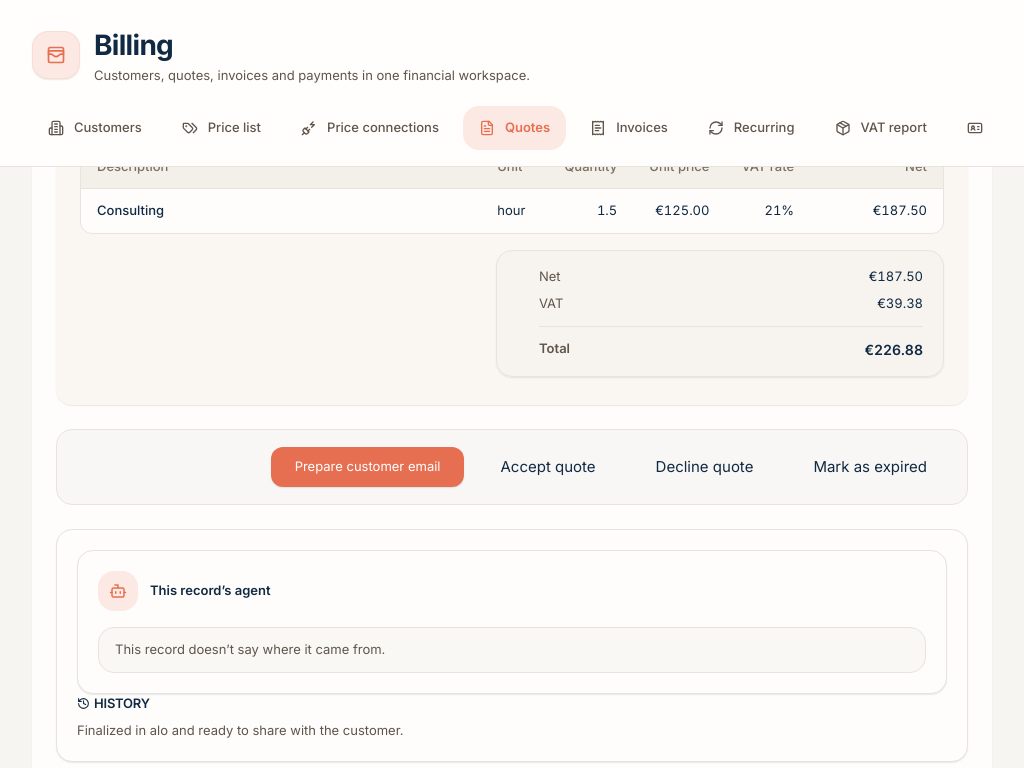
the offer's transitions › declining closes the offer for good, in the server's own answer
(page scrolled)
expect the text "Finalized in alo and ready to share with the customer." is shown: met, box [77,722,404,738]
Click the button "Decline quote": [704, 467] box [632,446,777,488]
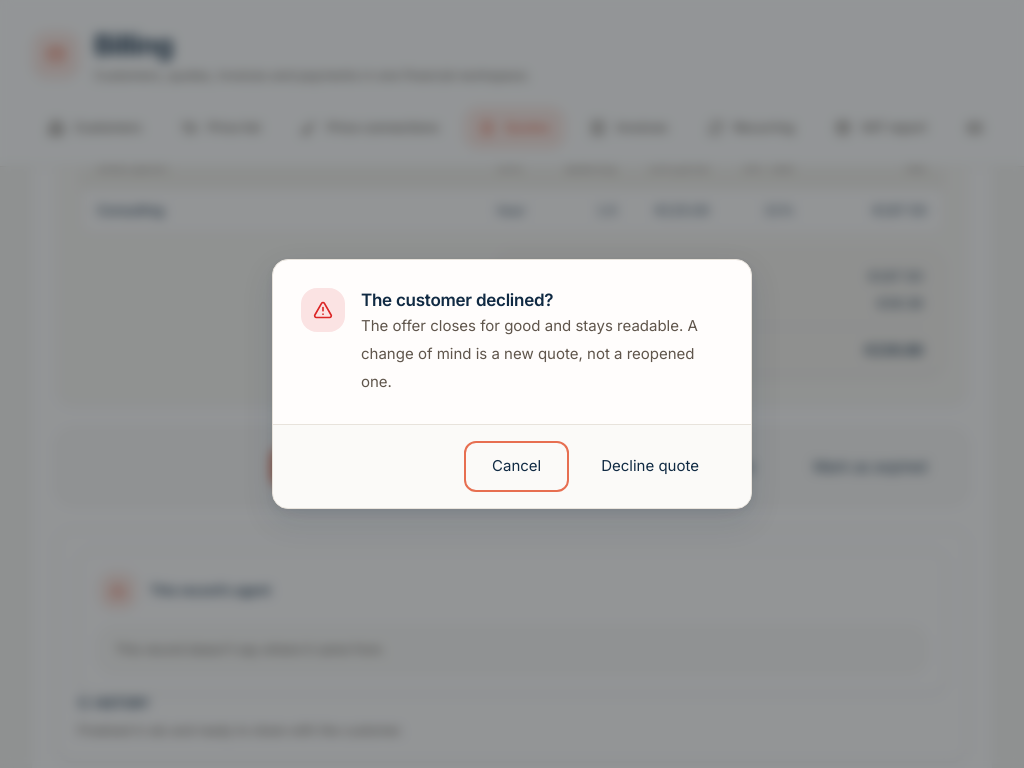
expect the text "The offer closes for good and stays readable. A change of mind is a new quote, not a reopened one." is shown: met, box [361,316,702,391]
Click the button "Decline quote": [650, 467] box [577,445,723,488]
(page scrolled)
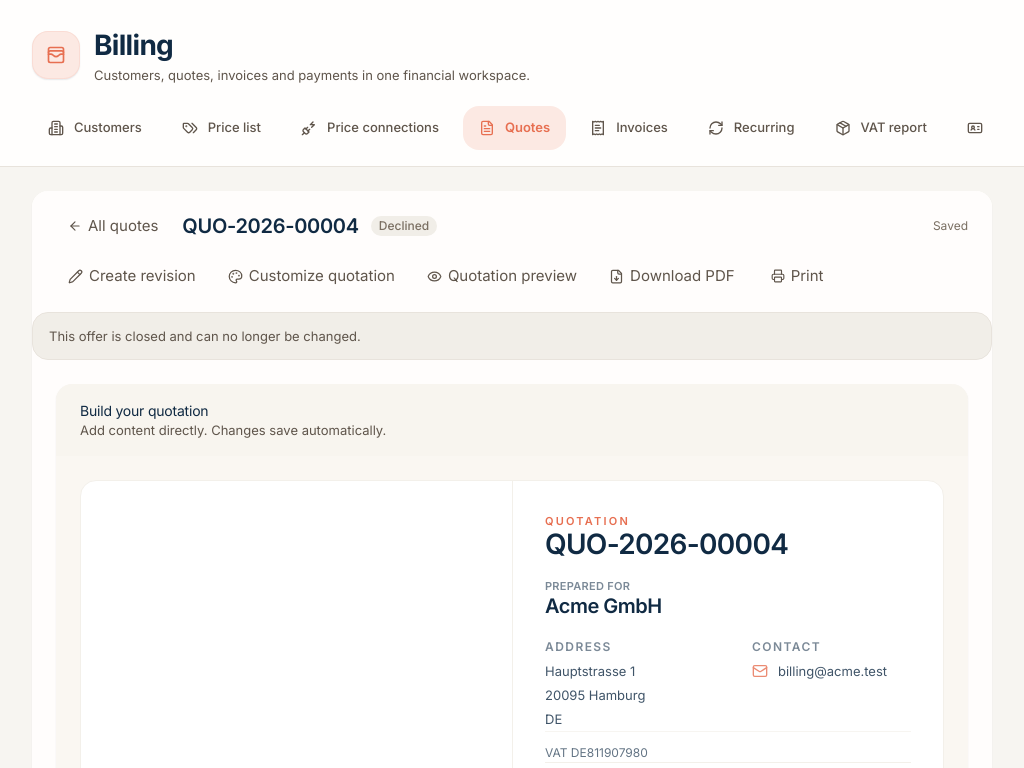
expect the text "Declined" is shown: met, box [371,216,437,236]
expect the text "This offer is closed and can no longer be changed." is shown: met, box [32,312,992,360]
expect the heading "QUO-2026-00004" is shown: met, box [182,211,359,241]
